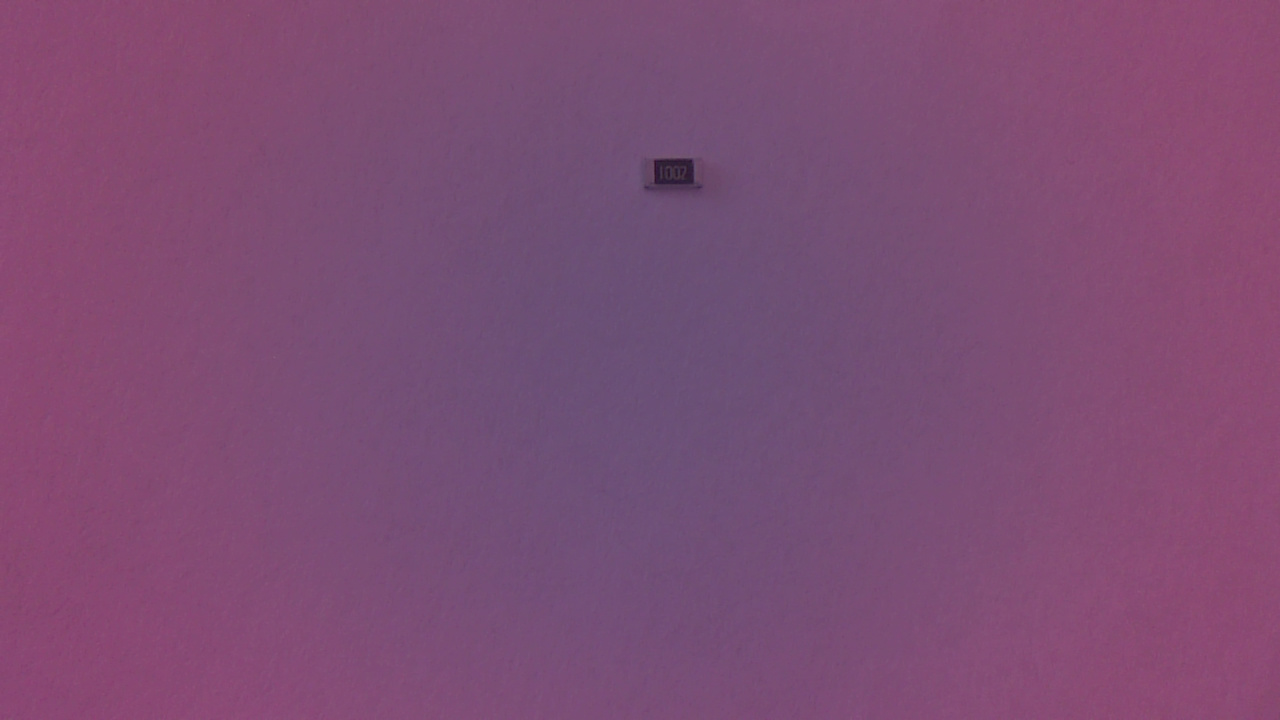Resistor: (644, 158, 715, 198)
